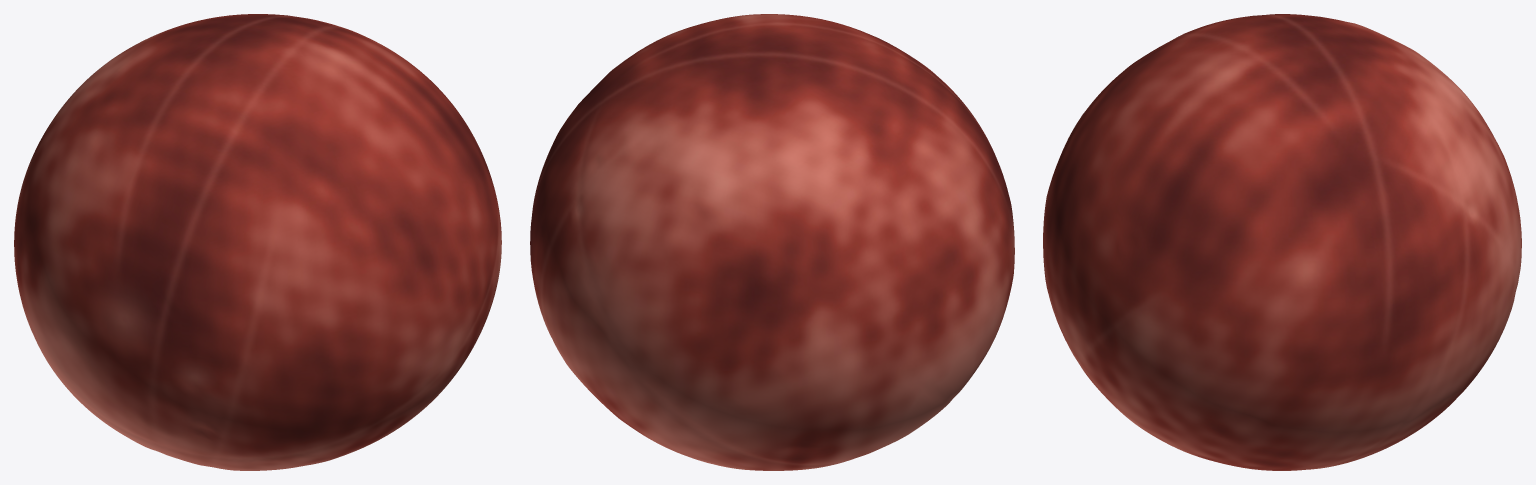
File: gonggong.glb
3 views of the same model, side by side, from view 1: azimuth 30°, elevation 25°; view 2: azimuth 150°, elevation 25°; view 3: azimuth 270°, elevation 25° (orthographic).
Parts seen in each view (by area): view 1: gonggong_body; view 2: gonggong_body; view 3: gonggong_body.
Boxes of the visible parts, box(x1,y1,x2,y2) form: gonggong_body: box(14, 14, 501, 470); gonggong_body: box(530, 14, 1014, 470); gonggong_body: box(1043, 14, 1521, 470).
Bounding box in the file's own units: 2.04 × 1.88 × 2.
1 material, 1 textured.
